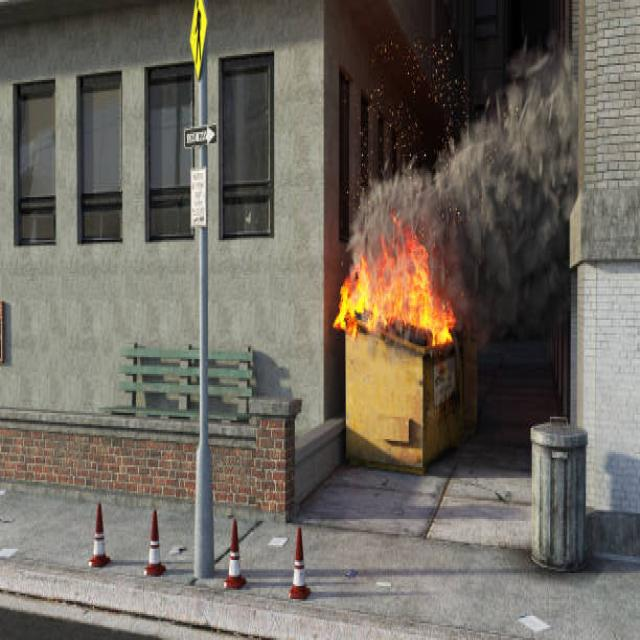fire: (396, 262, 436, 328), (370, 255, 396, 329)
